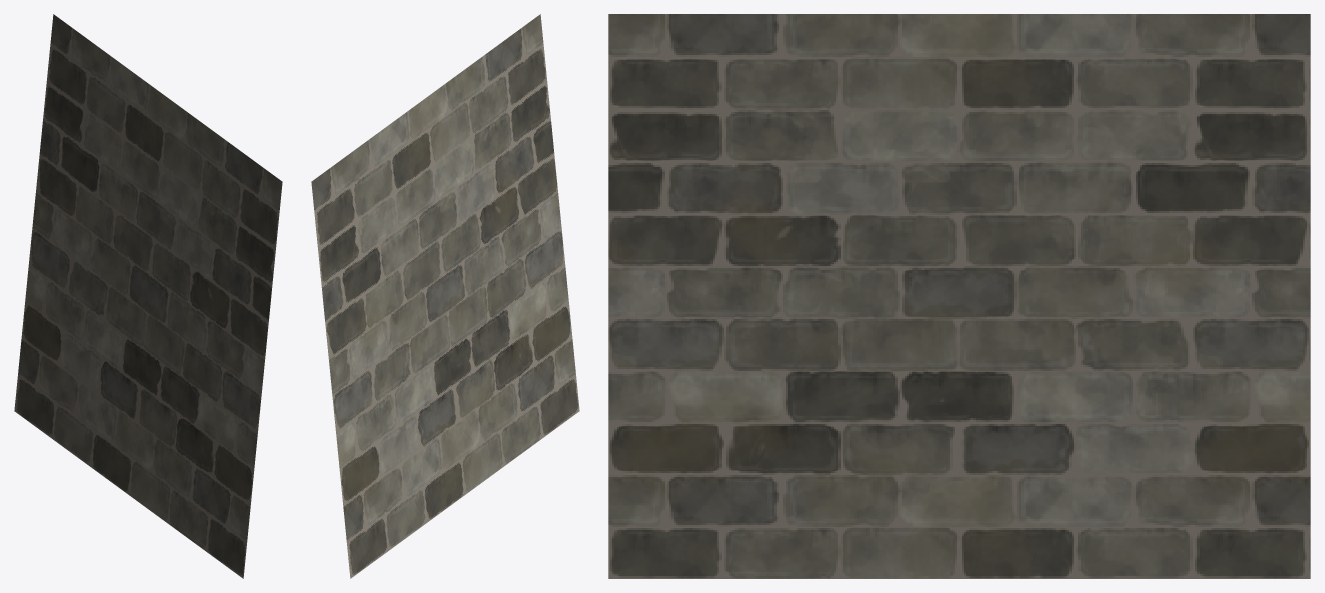
File: stone_wall.glb
3 renders of one model, left to right at view 1: azimuth 30°, elevation 25°; view 2: azimuth 150°, elevation 25°; view 3: azimuth 270°, elevation 25°, orthographic. The views are drawn at different scales.
Parts seen in each view (by area): view 1: Wall; view 2: Wall; view 3: Wall.
Boxes of the visible parts, box(x1,y1,x2,y2) form: Wall: box(14, 14, 282, 578); Wall: box(311, 14, 579, 578); Wall: box(608, 14, 1310, 578).
Size of the model in its own units: 0.502 by 4.76 by 5.1.
1 material, 1 textured.
